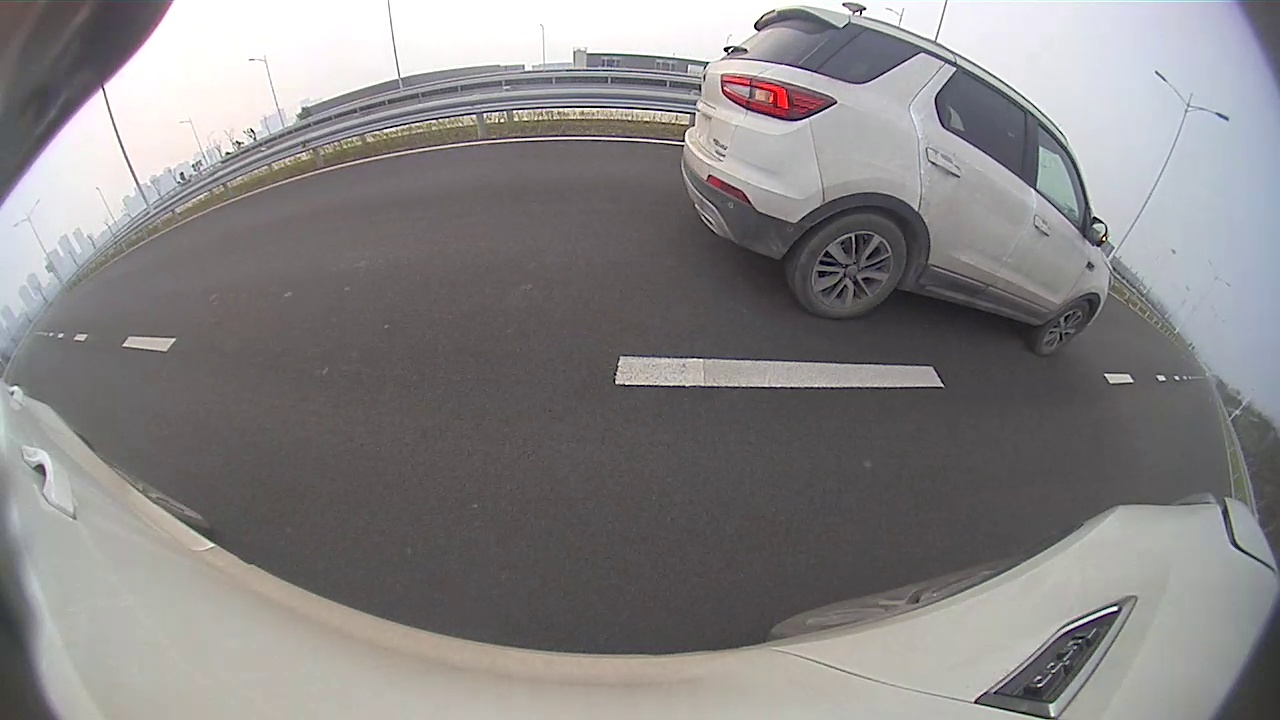car: (680, 5, 1115, 356)
front: (1037, 302, 1090, 356)
rear: (794, 213, 907, 321)
